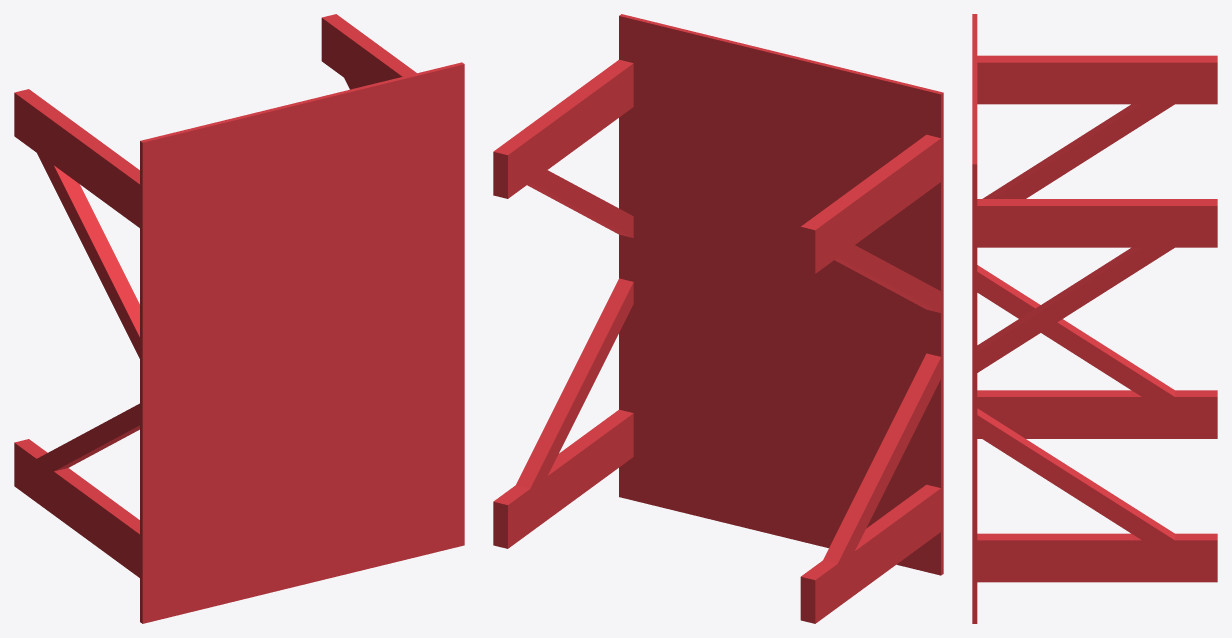
Rendered from Bridge.fbx.
3 renders of one model, left to right at view 1: azimuth 30°, elevation 25°; view 2: azimuth 150°, elevation 25°; view 3: azimuth 270°, elevation 25°, orthographic. The views are drawn at different scales.
Visible parts, largest first — view 1: Cube; view 2: Cube; view 3: Cube.
Part boxes in pixels (x1,y1,x2,y2): Cube: (14, 14, 464, 623); Cube: (493, 14, 943, 623); Cube: (972, 14, 1217, 623).
Size of the model in its own units: 716 by 1023 by 495.
